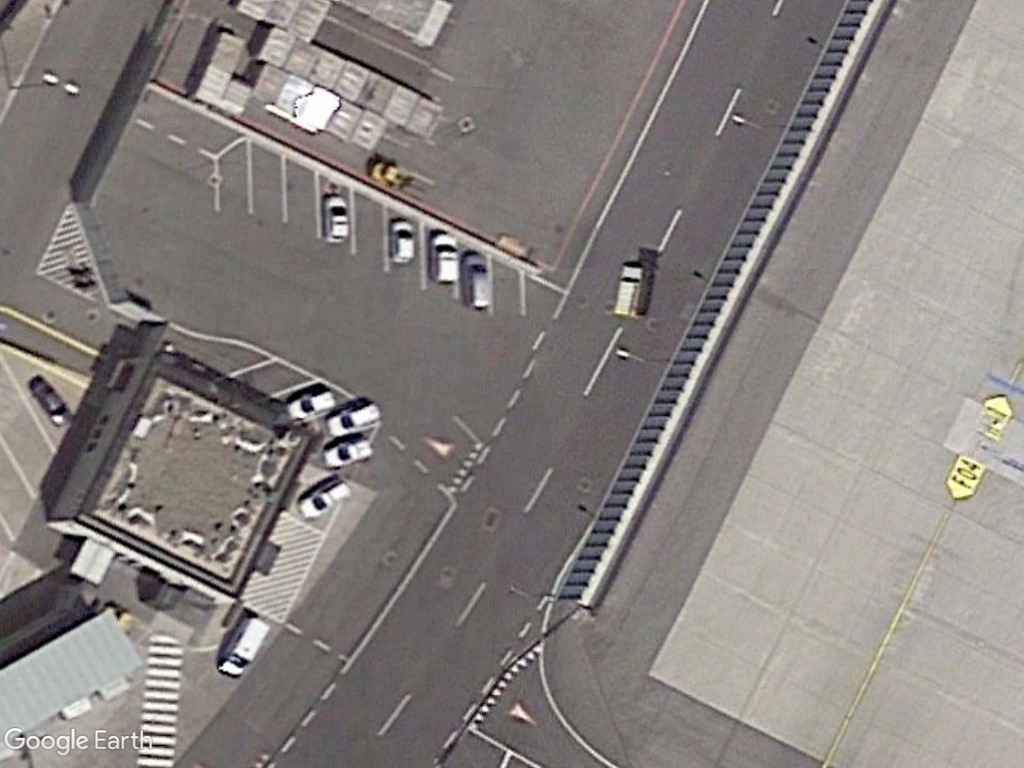car: (298, 475, 354, 520), (328, 399, 385, 443), (320, 432, 376, 472), (464, 252, 494, 315), (320, 192, 354, 247), (286, 388, 338, 423), (430, 228, 461, 286), (390, 217, 420, 269)
van: (214, 616, 272, 680)
